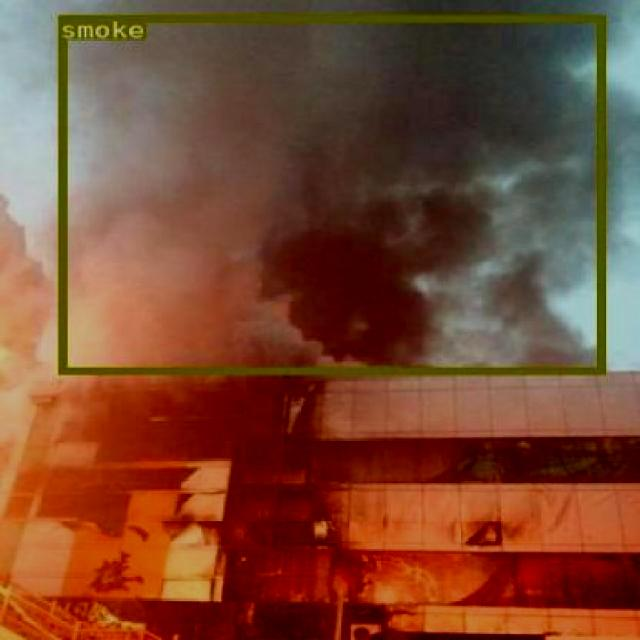smoke: (56, 14, 604, 372)
